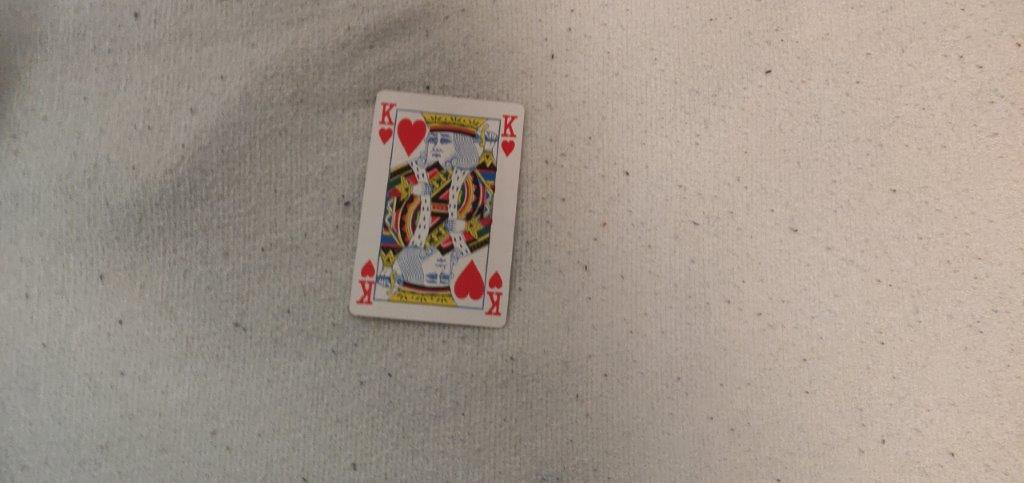KH: (373, 99, 397, 147), (498, 110, 520, 159)
